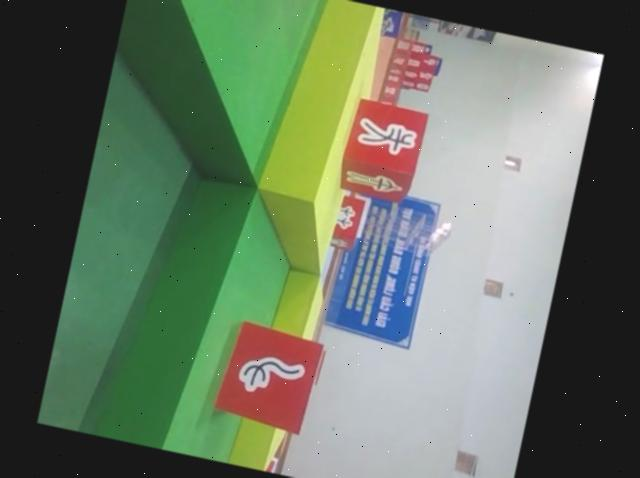R2 Fake: (330, 88, 434, 210)
R2 Real: (210, 313, 331, 440)
